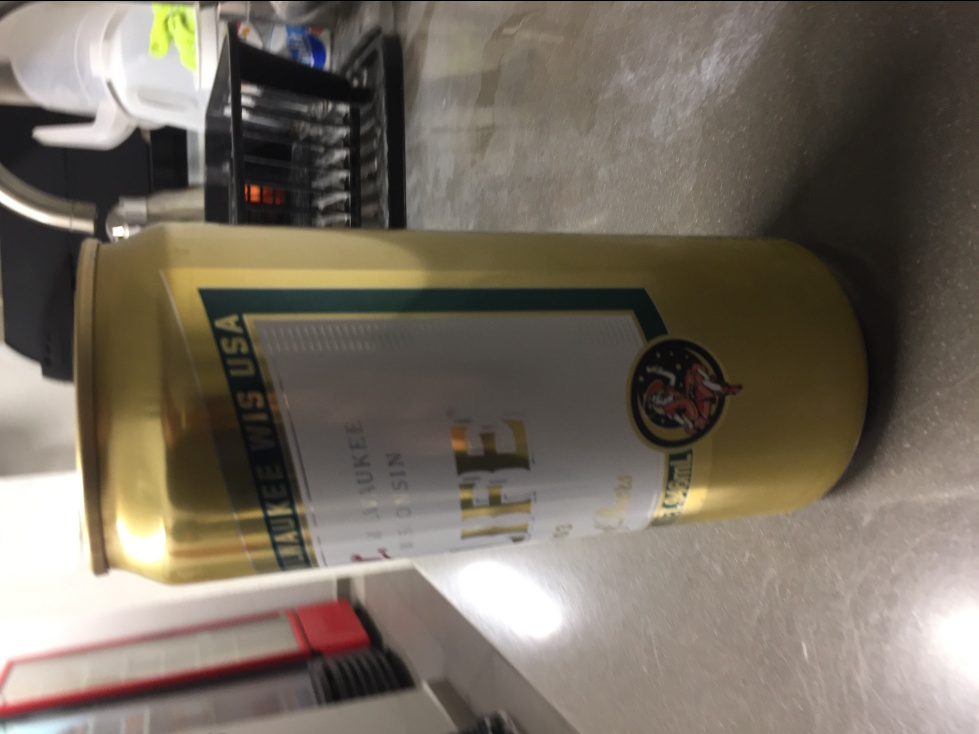miller: (64, 214, 875, 586)
